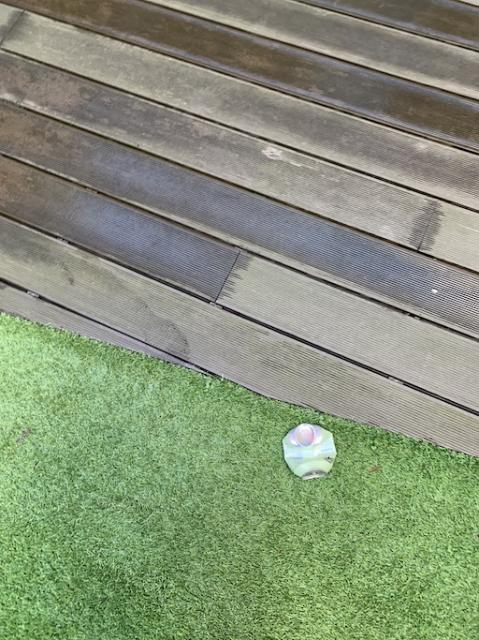metal: (282, 423, 335, 478)
